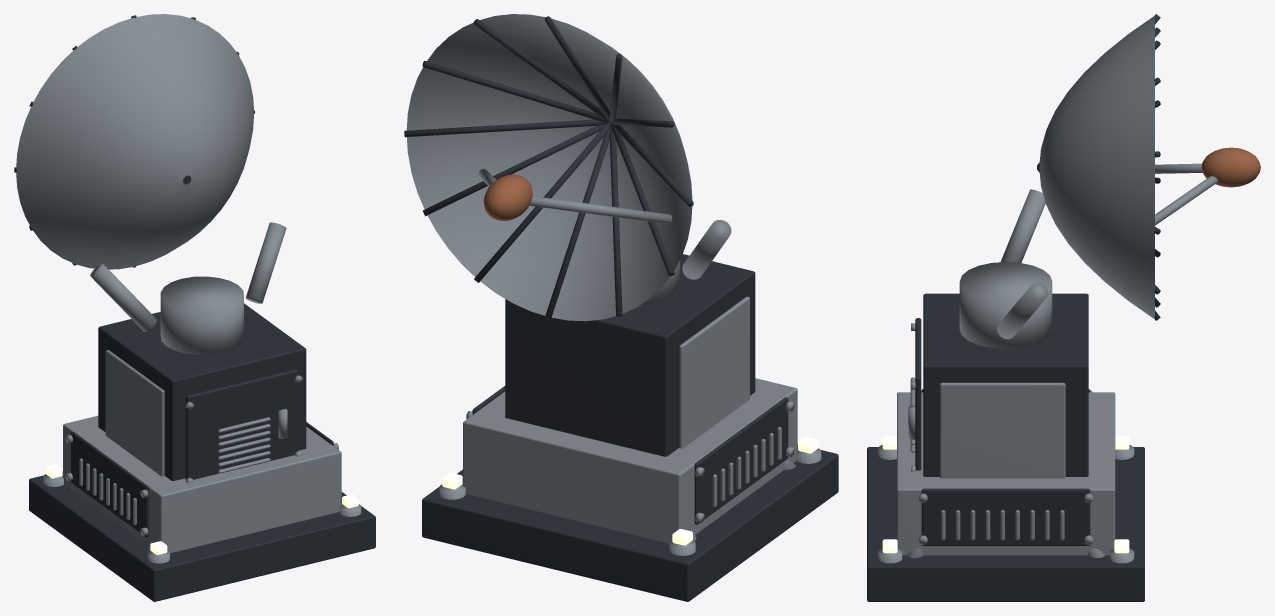
File: ndr.glb
3 renders of one model, left to right at view 1: azimuth 30°, elevation 25°; view 2: azimuth 150°, elevation 25°; view 3: azimuth 270°, elevation 25°, orthographic. The views are drawn at different scales.
Visible parts, largest first — view 1: head_steel.004, body_dark.034, body_steel.035, body_steel.036, body_warm.025; view 2: head_steel.004, body_dark.034, body_steel.035, head_dark.002, body_steel.036, head_copper.002, body_warm.025; view 3: body_dark.034, head_steel.004, body_steel.035, body_steel.036, head_copper.002, body_warm.025.
Part boxes in pixels (<box>): head_steel.004: <box>16,14,286,331</box>; body_dark.034: <box>29,303,375,601</box>; body_steel.035: <box>63,350,341,553</box>; body_steel.036: <box>43,276,361,563</box>; body_warm.025: <box>45,464,358,554</box>; head_steel.004: <box>406,14,731,321</box>; body_dark.034: <box>422,254,838,601</box>; body_steel.035: <box>463,296,797,543</box>; head_dark.002: <box>404,16,693,319</box>; body_steel.036: <box>439,260,821,555</box>; head_copper.002: <box>483,174,532,220</box>; body_warm.025: <box>442,437,818,545</box>; body_dark.034: <box>867,293,1144,601</box>; head_steel.004: <box>997,15,1218,339</box>; body_steel.035: <box>897,377,1115,555</box>; body_steel.036: <box>878,262,1134,563</box>; head_copper.002: <box>1201,147,1260,187</box>; body_warm.025: <box>882,435,1129,553</box>.
Size of the model in its own units: 0.9311 by 1.72 by 1.19.
